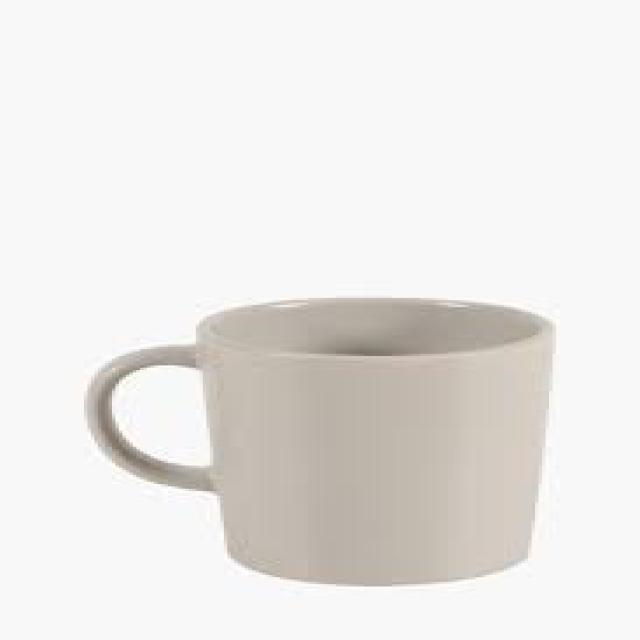taza: (83, 292, 554, 588)
